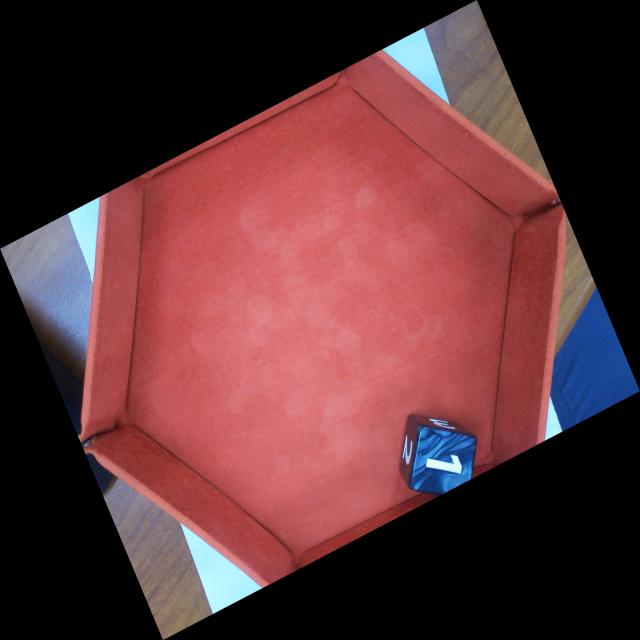dice: (410, 425, 477, 496)
